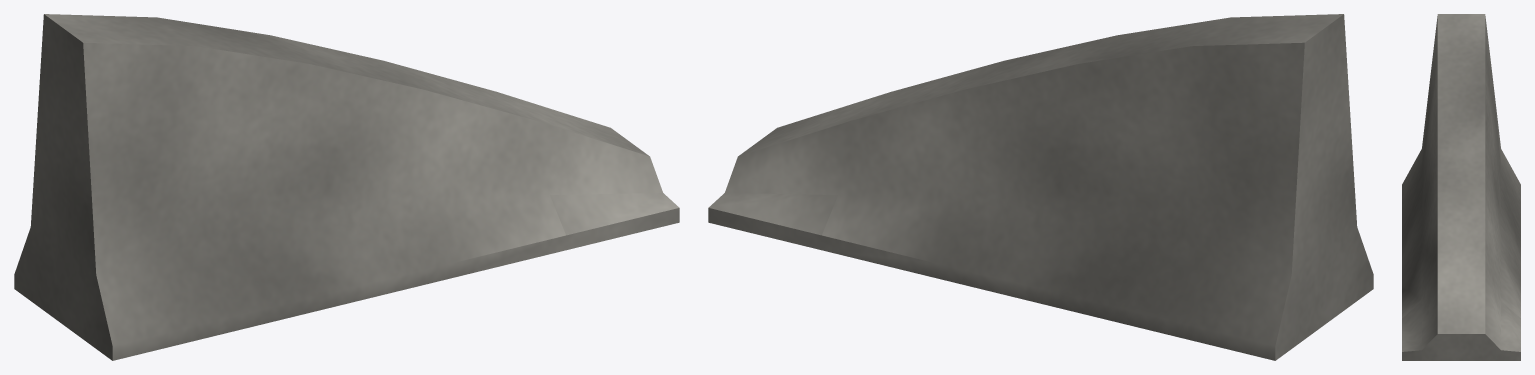
The model's file is concrete_end.glb.
The picture shows the model from 3 angles, left to right: view 1: azimuth 30°, elevation 25°; view 2: azimuth 150°, elevation 25°; view 3: azimuth 270°, elevation 25°; orthographic projection. The views are drawn at different scales.
Visible parts, largest first — view 1: concrete_end; view 2: concrete_end; view 3: concrete_end.
Part boxes in pixels (x1,y1,x2,y2): concrete_end: (14, 14, 679, 360); concrete_end: (708, 14, 1373, 360); concrete_end: (1402, 14, 1520, 360).
Size of the model in its own units: 2 by 1 by 0.6.
1 material, 1 textured.
